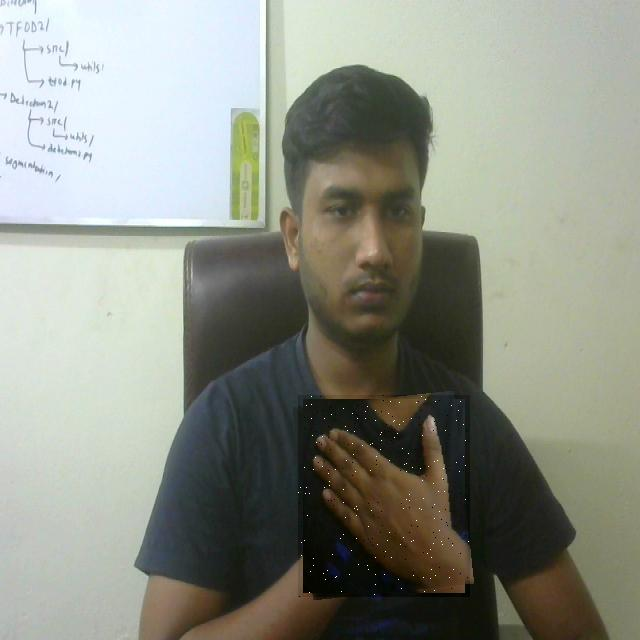Please: (298, 395, 470, 597)
